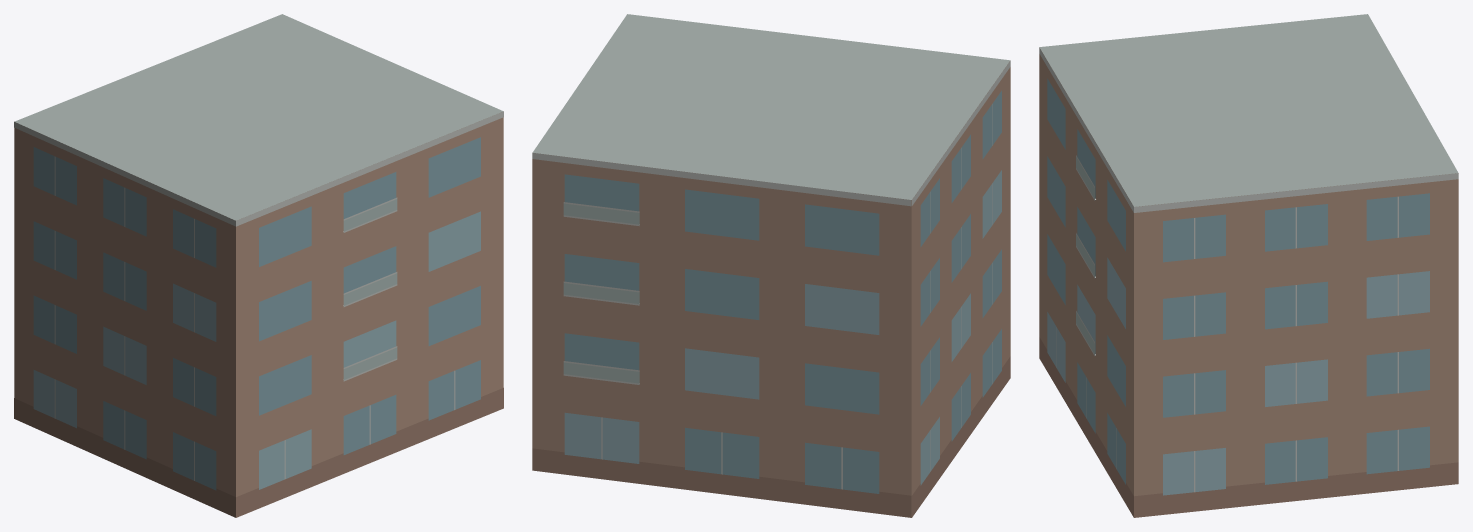
File: survey-upis-32937626.glb
The picture shows the model from 3 angles, left to right: view 1: azimuth 30°, elevation 25°; view 2: azimuth 150°, elevation 25°; view 3: azimuth 270°, elevation 25°; orthographic projection. The views are drawn at different scales.
Parts seen in each view (by area): view 1: survey-upis-32937626.tmp; view 2: survey-upis-32937626.tmp; view 3: survey-upis-32937626.tmp.
Part boxes in pixels (x1,y1,x2,y2): survey-upis-32937626.tmp: [14, 14, 503, 517]; survey-upis-32937626.tmp: [532, 14, 1010, 517]; survey-upis-32937626.tmp: [1039, 14, 1458, 517].
Bounding box in the file's own units: 16.47 × 12.37 × 15.13.
